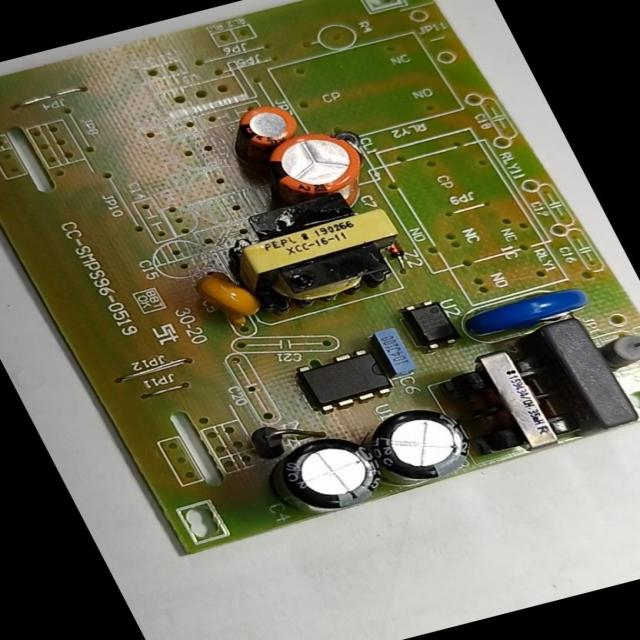Cap1: (254, 124, 372, 204)
Cap2: (217, 99, 303, 153)
Cap3: (361, 398, 486, 490)
Cap4: (265, 430, 397, 520)
MOSFET: (290, 344, 398, 415)
Mov: (452, 281, 595, 342)
Resistor: (592, 326, 640, 372)
Transformer: (209, 181, 422, 318), (441, 342, 584, 461)
